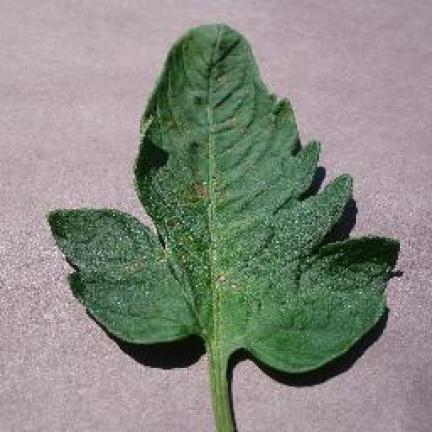disease: (49, 25, 397, 430)
leaf: (178, 180, 210, 206), (213, 172, 228, 202)
